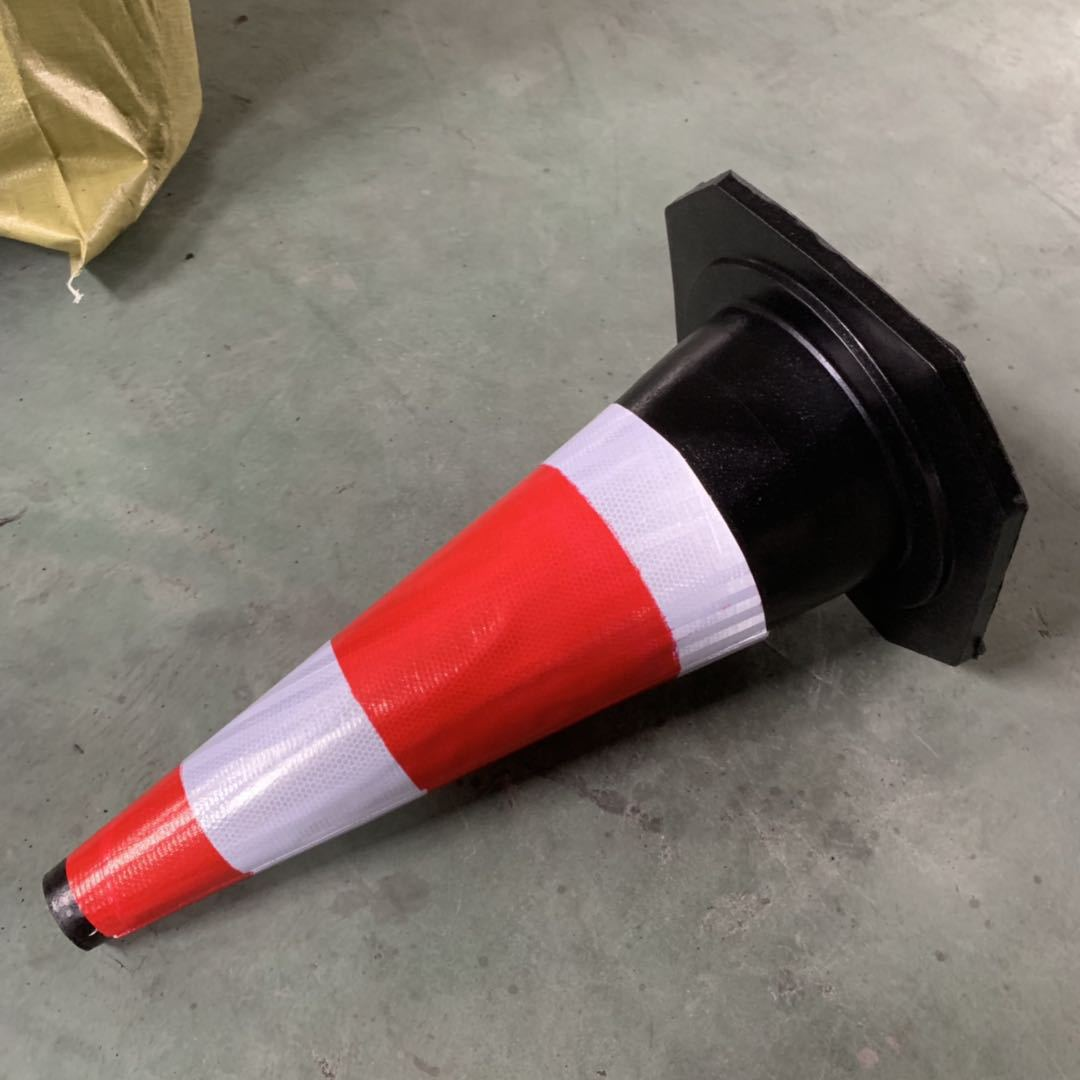traffic_cone: (10, 177, 1042, 978)
